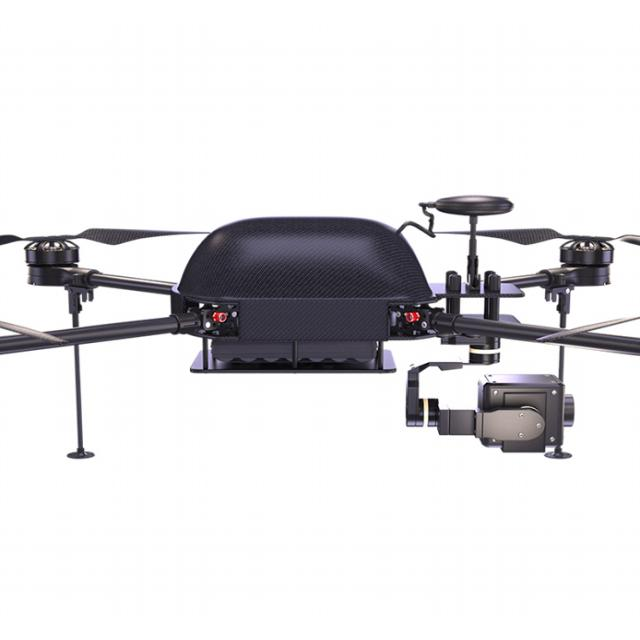drone: (0, 180, 640, 496)
